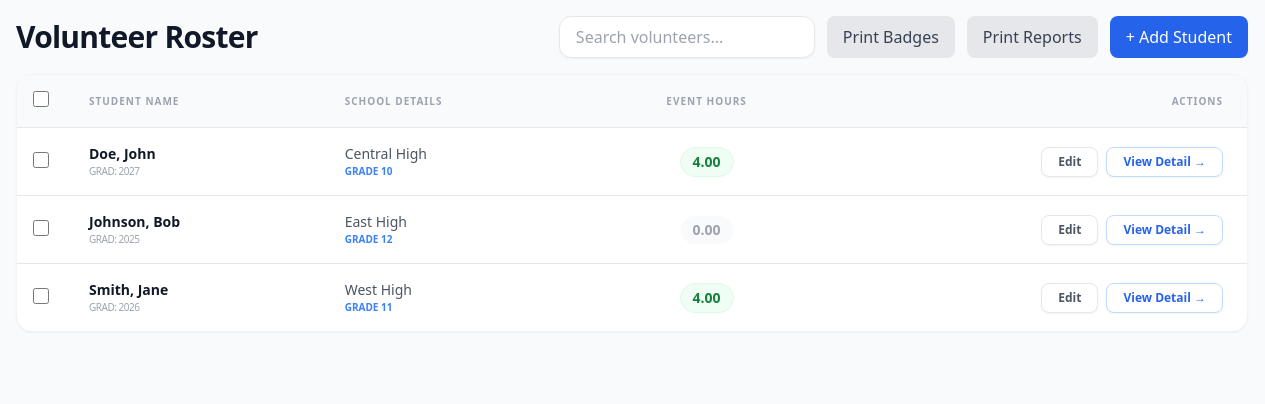
StudentsPage › bulk selection › should toggle individual student selection when checkbox is clicked
This screenshot has width=1265, height=404.
Expected: the text "Doe, John" is shown, [89,144,156,163]
// Click to select (use the first one - desktop)
Click the checkbox named "Select John Doe" at (41, 160), box [33,152,49,168]
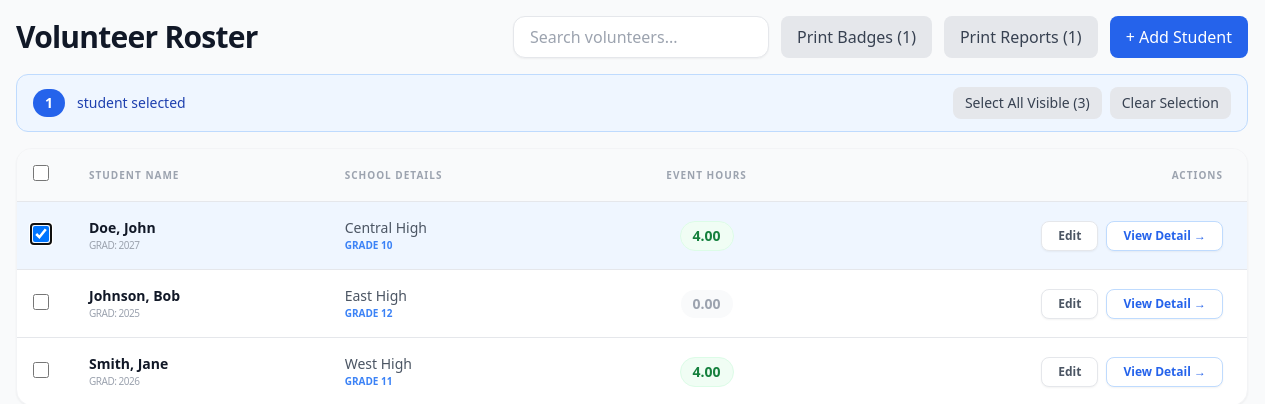
Expected: the checkbox named "Select John Doe" is checked, [33,226,49,242]
Expected: the text "1" is shown, [33,89,65,117]
Expected: the text "student selected" is shown, [77,93,186,113]
